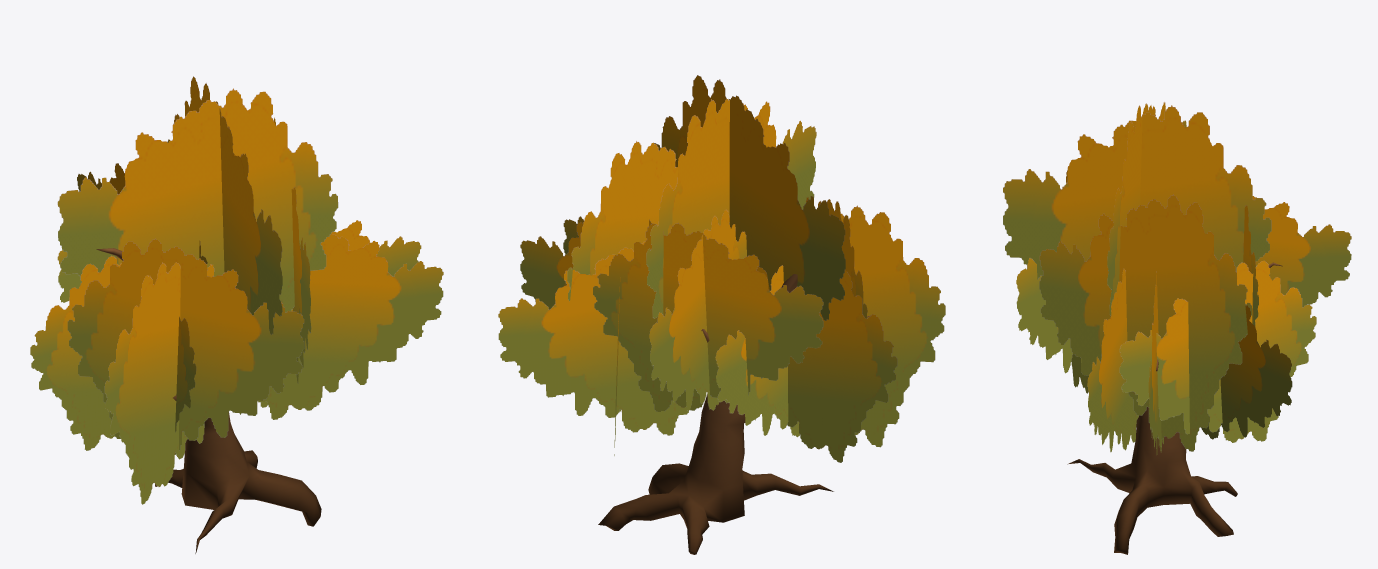
The model's file is TreeOakYellowing.glb.
3 views of the same model, side by side, from view 1: azimuth 30°, elevation 25°; view 2: azimuth 150°, elevation 25°; view 3: azimuth 270°, elevation 25° (orthographic). The views are drawn at different scales.
Parts seen in each view (by area): view 1: Tree.001; view 2: Tree.001; view 3: Tree.001.
Part boxes in pixels (box(x1,y1,x2,y2)): Tree.001: box(30, 76, 443, 553); Tree.001: box(498, 75, 945, 554); Tree.001: box(1003, 102, 1351, 554).
Bounding box in the file's own units: 9.1 × 9.98 × 7.72.
Materials: 1 (1 with a texture image).
